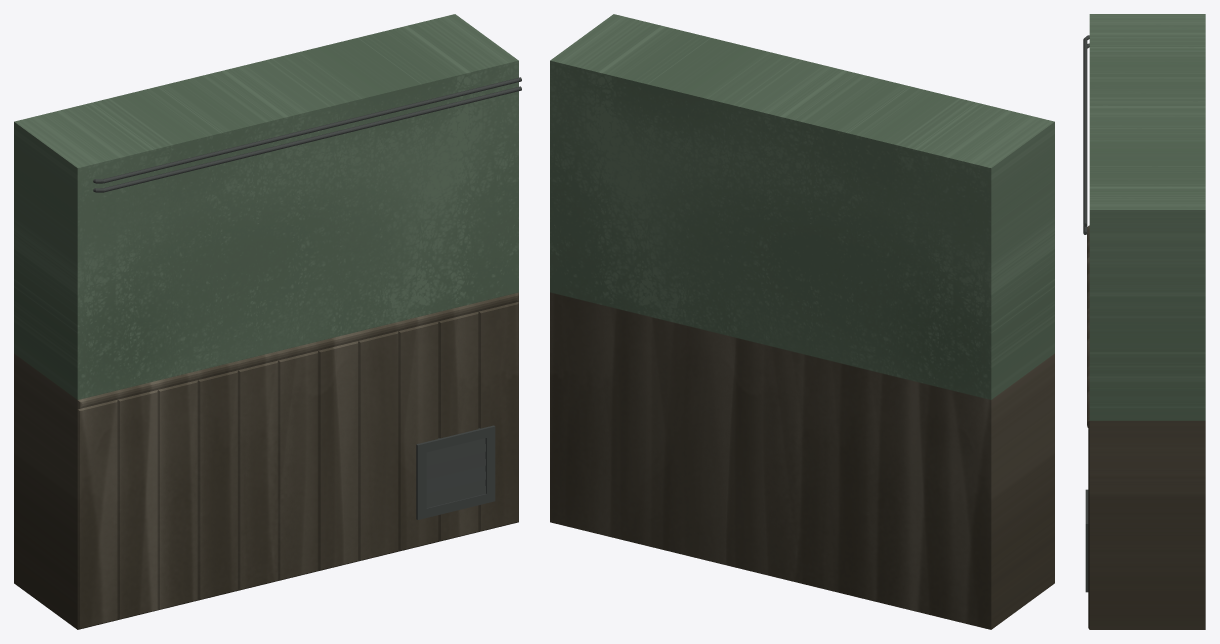
The model's file is Wall_2_L.fbx.
3 views of the same model, side by side, from view 1: azimuth 30°, elevation 25°; view 2: azimuth 150°, elevation 25°; view 3: azimuth 270°, elevation 25° (orthographic). The views are drawn at different scales.
Visible parts, largest first — view 1: Wall_2_L; view 2: Wall_2_L; view 3: Wall_2_L.
Boxes of the visible parts, bbox=[...] form: Wall_2_L: bbox=[14, 14, 521, 629]; Wall_2_L: bbox=[550, 14, 1054, 629]; Wall_2_L: bbox=[1083, 14, 1205, 629].
Bounding box in the file's own units: 4 × 4 × 1.05.
